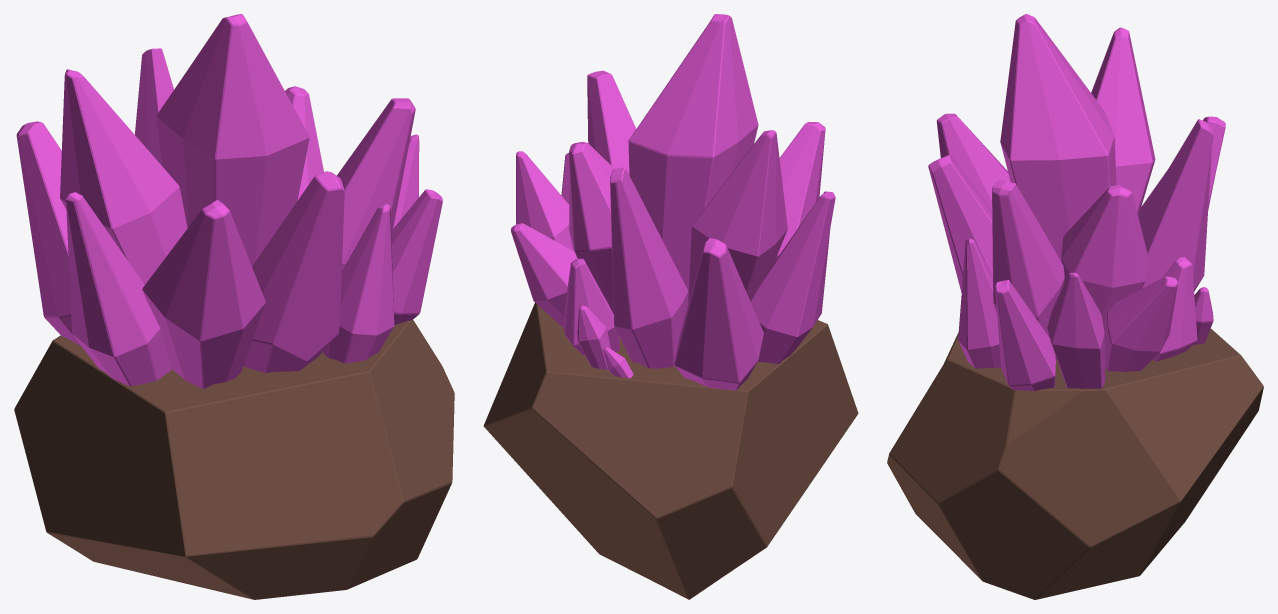
File: Crystals_Version_B_Base_UVs.fbx
3 views of the same model, side by side, from view 1: azimuth 30°, elevation 25°; view 2: azimuth 150°, elevation 25°; view 3: azimuth 270°, elevation 25° (orthographic). The views are drawn at different scales.
Parts seen in each view (by area): view 1: SM_Crystal_Main.003; view 2: SM_Crystal_Main.003; view 3: SM_Crystal_Main.003.
Part boxes in pixels (bbox=[...]): SM_Crystal_Main.003: bbox=[14, 14, 454, 599]; SM_Crystal_Main.003: bbox=[483, 14, 858, 599]; SM_Crystal_Main.003: bbox=[887, 14, 1263, 599].
Bounding box in the file's own units: 305 × 480 × 310.
